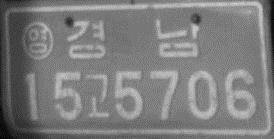0: (186, 69, 220, 121)
1: (21, 69, 45, 121)
5: (113, 67, 144, 122), (51, 69, 84, 120)
6: (223, 67, 258, 121)
7: (147, 67, 181, 122)
경남_D: (64, 16, 200, 61)
고: (83, 71, 113, 118)
영: (20, 20, 54, 61)
